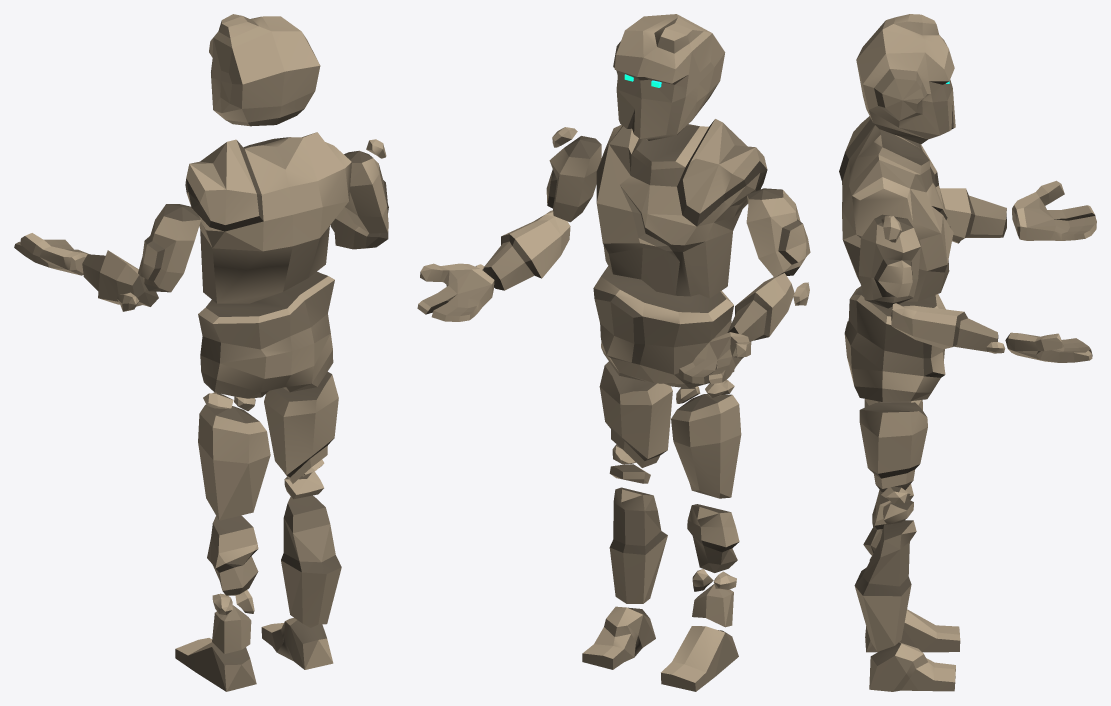
File: GolemChoice.fbx
3 renders of one model, left to right at view 1: azimuth 30°, elevation 25°; view 2: azimuth 150°, elevation 25°; view 3: azimuth 270°, elevation 25°, orthographic.
Visible parts, largest first — view 1: Chest, Waist, Head, UpperLeg.R, UpperLeg.L, LowerLeg.L, LowerLeg.R, UpperArm.R, UpperArm.L, LowerArm.R, Foot.R, Foot.L (+2 smaller); view 2: Chest, Head, Waist, UpperLeg.R, UpperLeg.L, LowerLeg.L, LowerLeg.R, UpperArm.R, LowerArm.L, UpperArm.L, Hand.L, Foot.R (+3 smaller); view 3: Chest, Head, Waist, UpperLeg.L, LowerLeg.L, UpperArm.L, LowerArm.L, Hand.R, Foot.L, LowerArm.R, Hand.L, Foot.R (+1 smaller).
Boxes of the visible parts, <box> form: Chest: <box>185,132,351,303</box>; Waist: <box>198,271,334,398</box>; Head: <box>209,14,320,126</box>; UpperLeg.R: <box>198,392,270,520</box>; UpperLeg.L: <box>264,371,338,499</box>; LowerLeg.L: <box>281,495,341,627</box>; LowerLeg.R: <box>207,515,258,653</box>; UpperArm.R: <box>138,204,200,292</box>; UpperArm.L: <box>344,139,388,233</box>; LowerArm.R: <box>82,250,158,311</box>; Foot.R: <box>175,638,256,691</box>; Foot.L: <box>261,618,333,669</box>; Chest: <box>596,119,767,298</box>; Head: <box>613,14,725,140</box>; Waist: <box>593,266,734,388</box>; UpperLeg.R: <box>671,380,741,498</box>; UpperLeg.L: <box>599,361,672,483</box>; LowerLeg.L: <box>609,487,667,603</box>; LowerLeg.R: <box>687,504,739,627</box>; UpperArm.R: <box>746,188,810,276</box>; LowerArm.L: <box>475,210,570,290</box>; UpperArm.L: <box>546,127,601,222</box>; Hand.L: <box>417,263,494,321</box>; Foot.R: <box>661,626,738,691</box>; Chest: <box>839,116,953,301</box>; Head: <box>856,14,955,144</box>; Waist: <box>844,286,945,401</box>; UpperLeg.L: <box>859,402,927,524</box>; LowerLeg.L: <box>854,520,916,651</box>; UpperArm.L: <box>858,214,920,308</box>; LowerArm.L: <box>891,303,1005,353</box>; Hand.R: <box>1012,180,1096,240</box>; Foot.L: <box>869,642,955,691</box>; LowerArm.R: <box>940,188,1006,243</box>; Hand.L: <box>1005,332,1092,362</box>; Foot.R: <box>865,609,960,652</box>.
Size of the model in its own units: 338 by 633 by 232.
